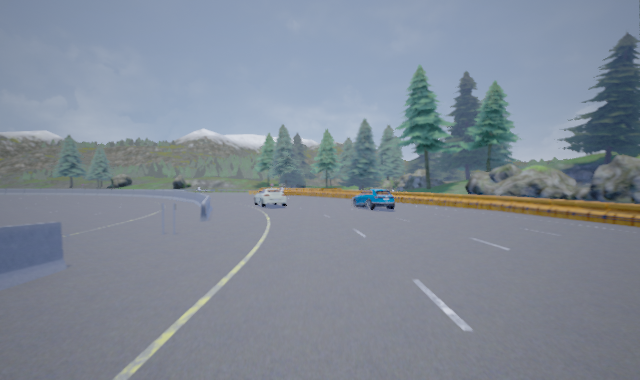vehicle: (351, 187, 395, 211), (252, 188, 288, 208)
